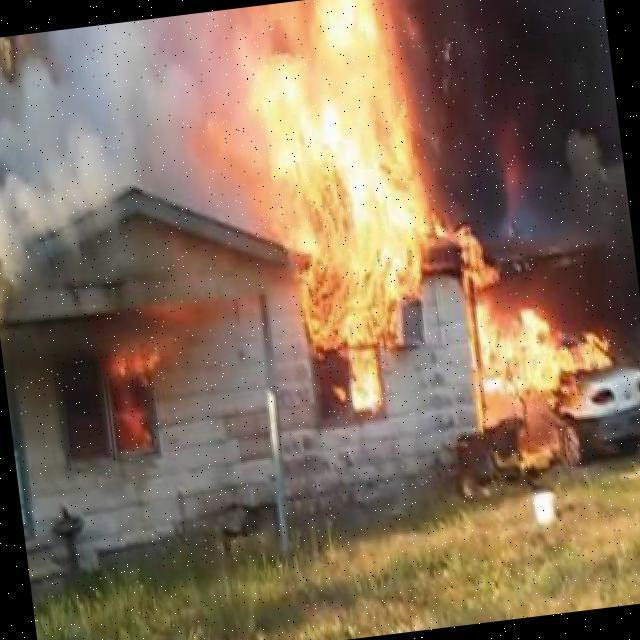Fire: (236, 11, 435, 360), (470, 291, 620, 399), (95, 330, 170, 451), (443, 215, 497, 306), (348, 345, 392, 431)
Smoke: (0, 25, 254, 294)
